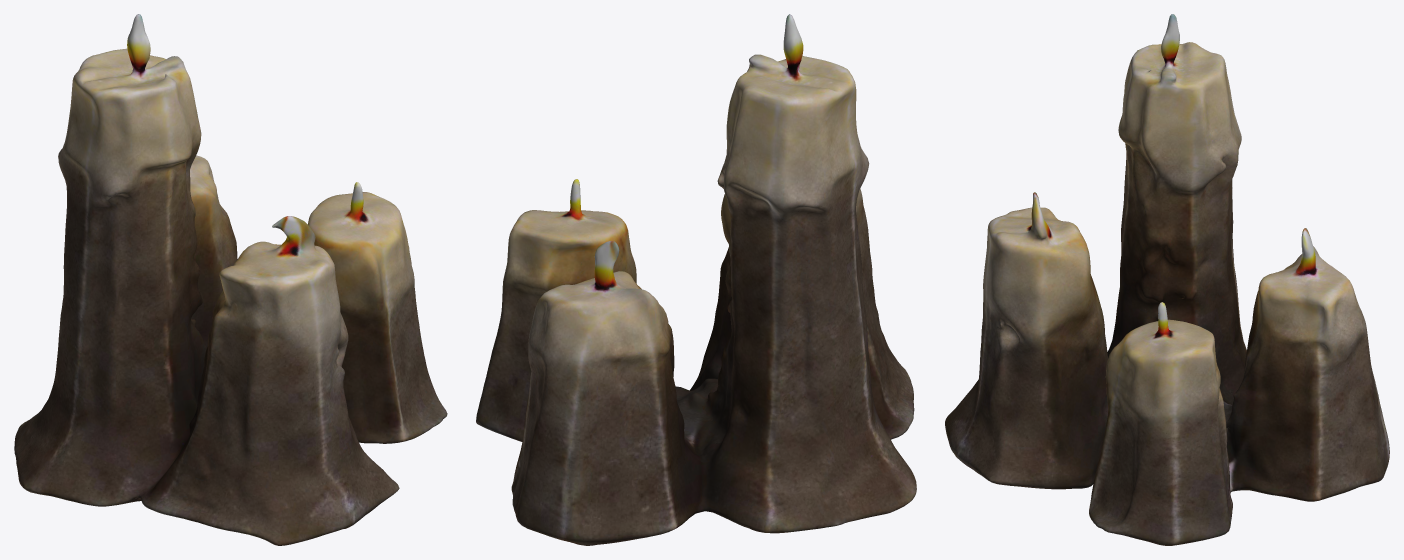
File: 78e021153c3c_low_poly_candles_mi.fbx
3 views of the same model, side by side, from view 1: azimuth 30°, elevation 25°; view 2: azimuth 150°, elevation 25°; view 3: azimuth 270°, elevation 25° (orthographic). The views are drawn at different scales.
Visible parts, largest first — view 1: high_poly; view 2: high_poly; view 3: high_poly.
Part boxes in pixels (x1,y1,x2,y2): high_poly: (14,14,447,545); high_poly: (476,14,916,545); high_poly: (945,14,1389,545).
Bounding box in the file's own units: 90.65 × 100 × 97.28.
